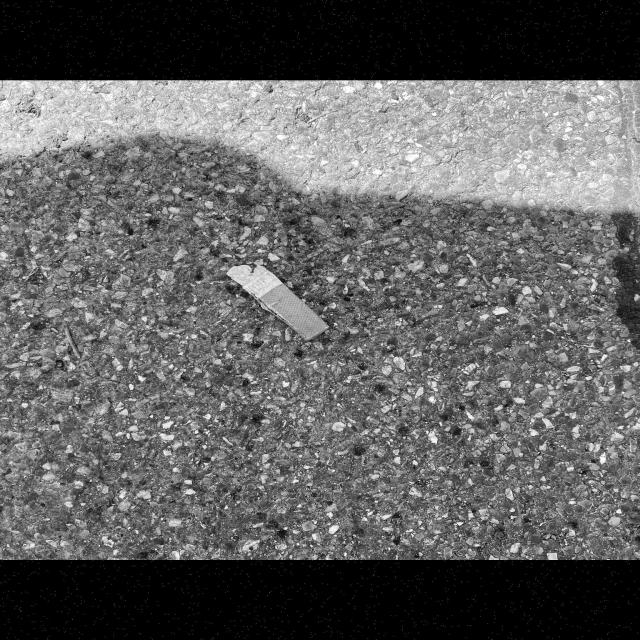other waste: (225, 263, 331, 341)
